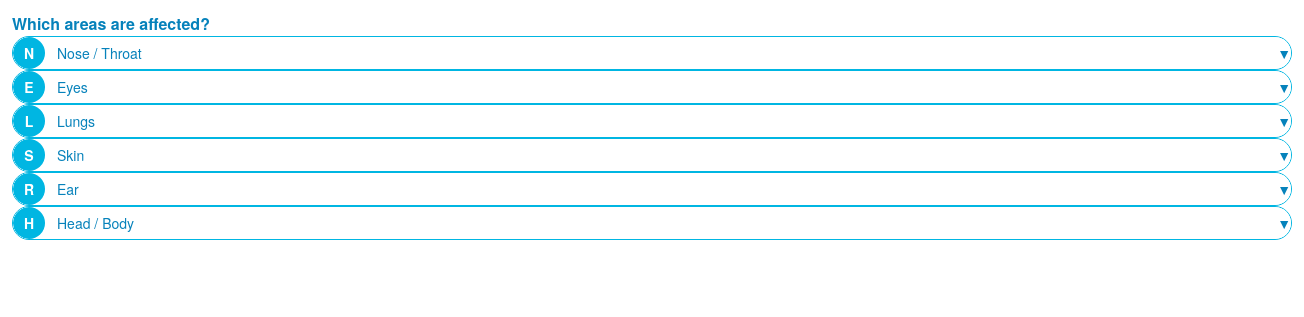
Test: SymptomZones › collapses a zone when clicked again
Note: Expand then collapse
Click the text "Eyes" at (72, 87), box [57,77,88,97]
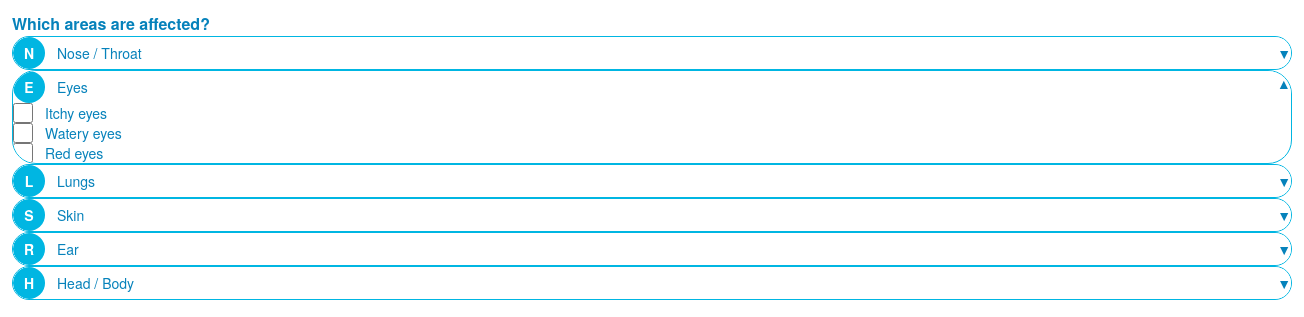
Result: the text "Itchy eyes" is shown at [45,103,107,123]
Click the text "Eyes" at (72, 87), box [57,77,88,97]
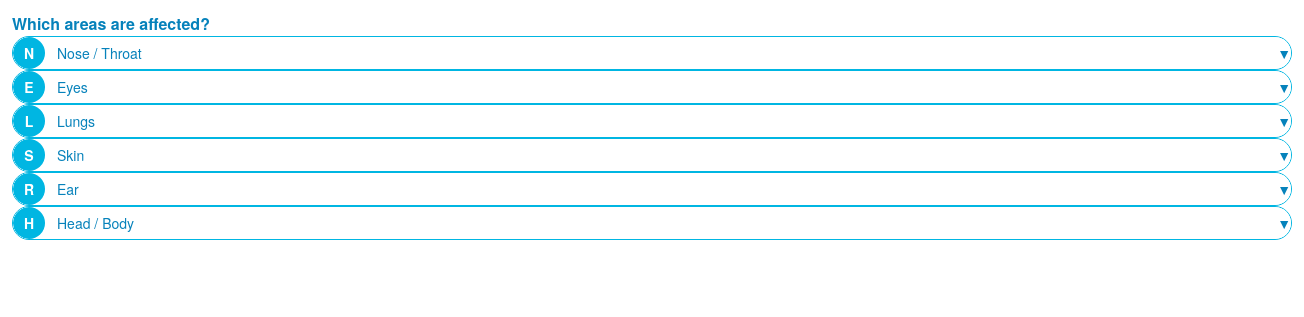
Result: the text "Itchy eyes" is gone
